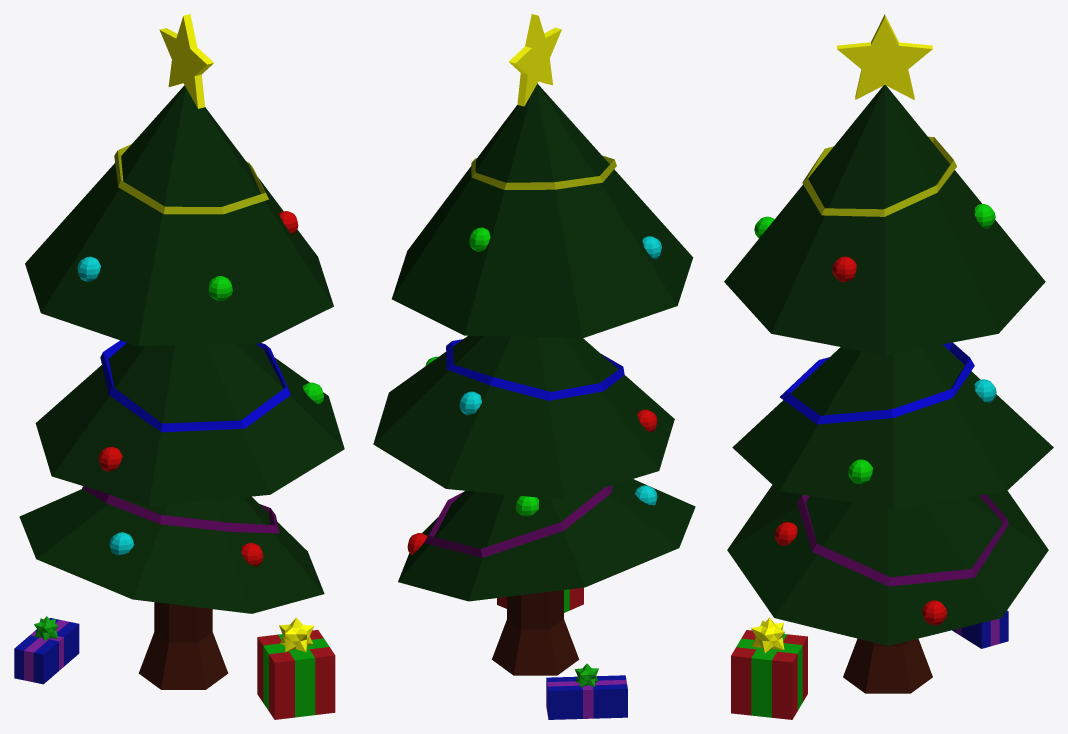
Rendered from Christmas-tree.obj.
The picture shows the model from 3 angles, left to right: view 1: azimuth 30°, elevation 25°; view 2: azimuth 150°, elevation 25°; view 3: azimuth 270°, elevation 25°; orthographic projection. The views are drawn at different scales.
Parts seen in each view (by area): view 1: Present_Cube.001; view 2: Present_Cube.001; view 3: Present_Cube.001.
Part boxes in pixels (x1=…): Present_Cube.001: x1=14, y1=14, x2=344, y2=719; Present_Cube.001: x1=373, y1=14, x2=695, y2=719; Present_Cube.001: x1=724, y1=14, x2=1053, y2=719.
Bounding box in the file's own units: 11.67 × 24.91 × 11.25.
